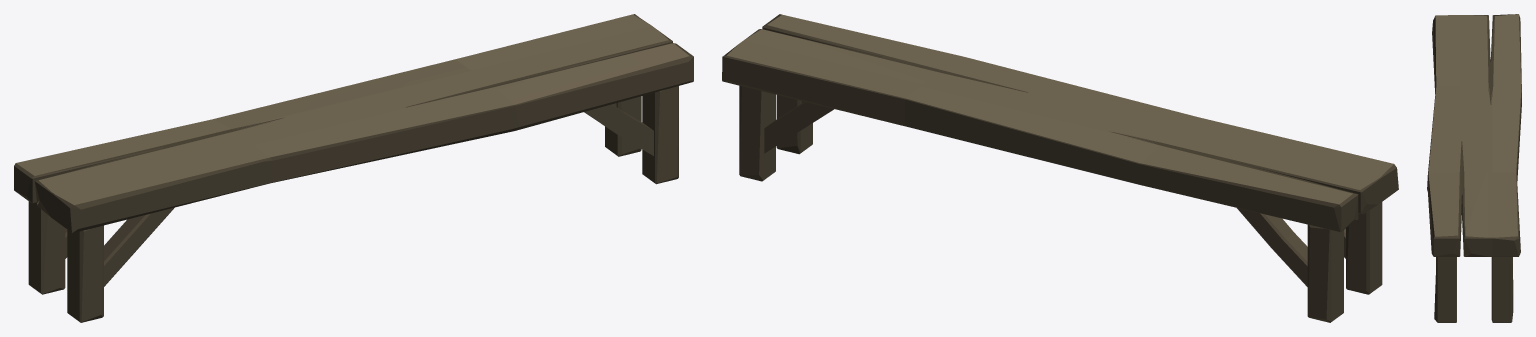
File: I_WoodenBench.fbx
The picture shows the model from 3 angles, left to right: view 1: azimuth 30°, elevation 25°; view 2: azimuth 150°, elevation 25°; view 3: azimuth 270°, elevation 25°; orthographic projection. The views are drawn at different scales.
Parts seen in each view (by area): view 1: WoodBench; view 2: WoodBench; view 3: WoodBench.
Part boxes in pixels (x1,y1,x2,y2): WoodBench: [14, 14, 693, 322]; WoodBench: [722, 14, 1398, 322]; WoodBench: [1427, 14, 1521, 322].
Bounding box in the file's own units: 8.08 × 1.53 × 1.45.
